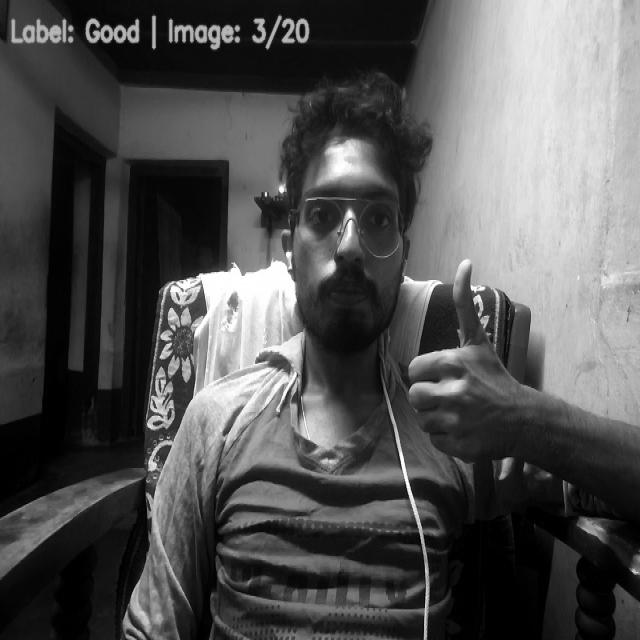Good: (401, 258, 521, 467)
